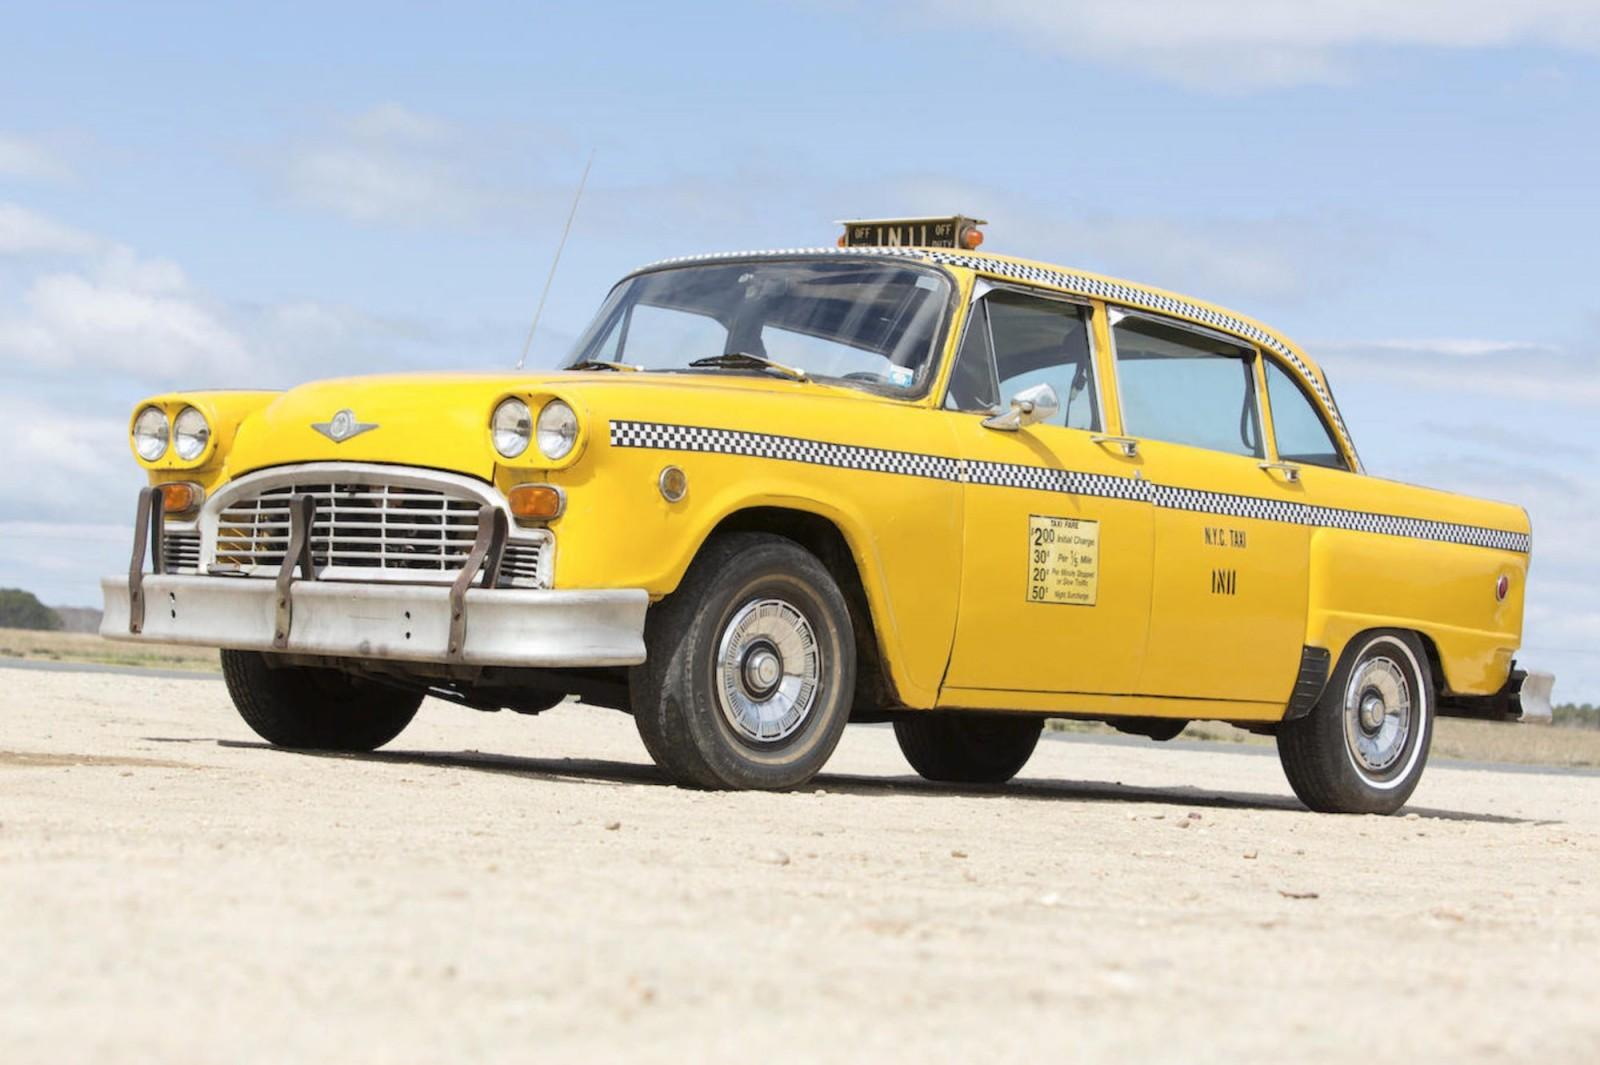taxi: (189, 174, 1600, 869)
